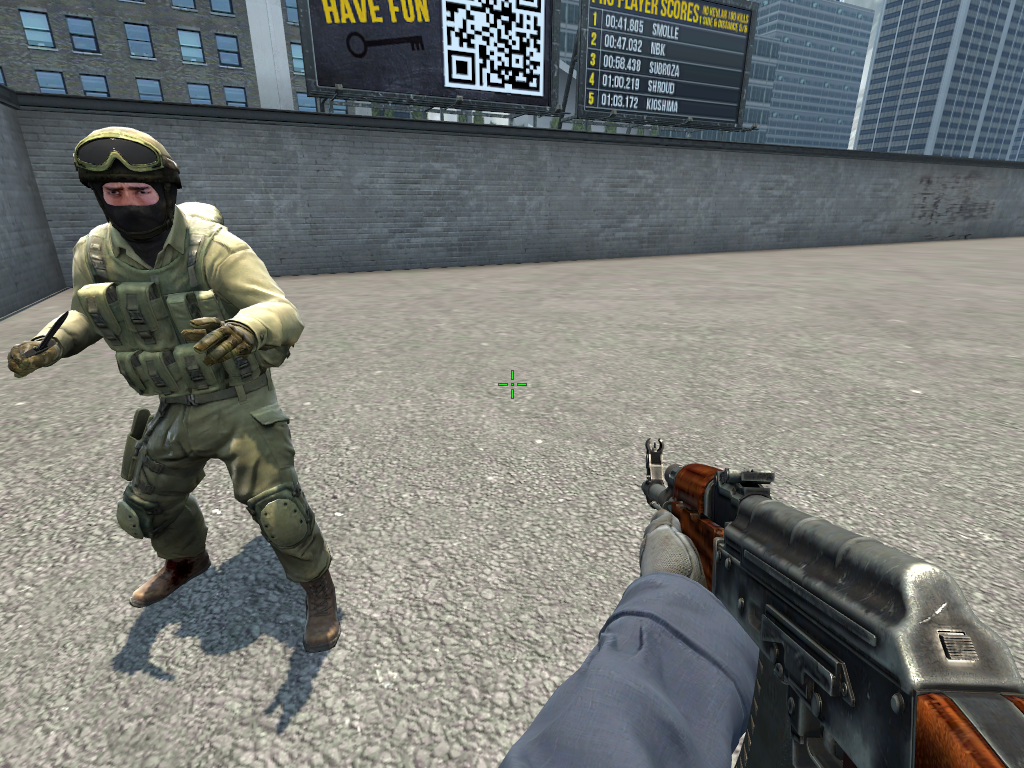ct head: (70, 123, 184, 240)
